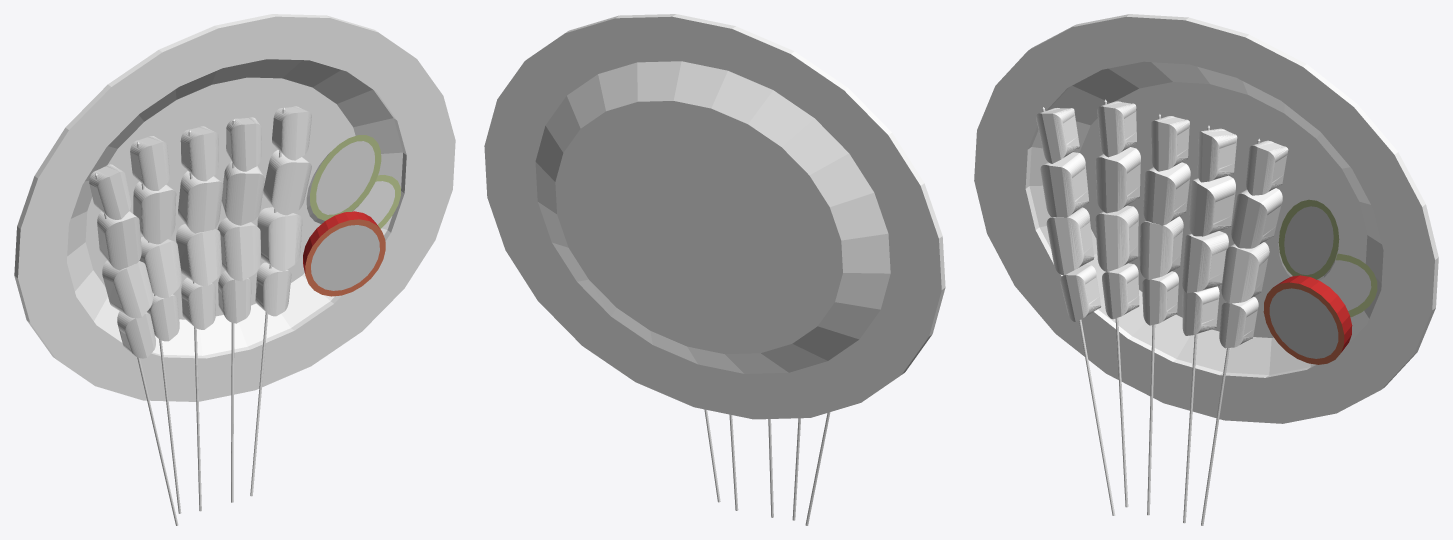
The picture shows the model from 3 angles, left to right: view 1: azimuth 30°, elevation 25°; view 2: azimuth 150°, elevation 25°; view 3: azimuth 330°, elevation 25°; orthographic projection. The views are drawn at different scales.
Parts seen in each view (by area): view 1: indonesian food sate; view 2: indonesian food sate; view 3: indonesian food sate.
Part boxes in pixels (box(x1,y1,x2,y2)): indonesian food sate: box(14, 14, 455, 525); indonesian food sate: box(484, 14, 945, 525); indonesian food sate: box(974, 14, 1438, 525).
Size of the model in its own units: 73.52 by 76.12 by 10.02.
